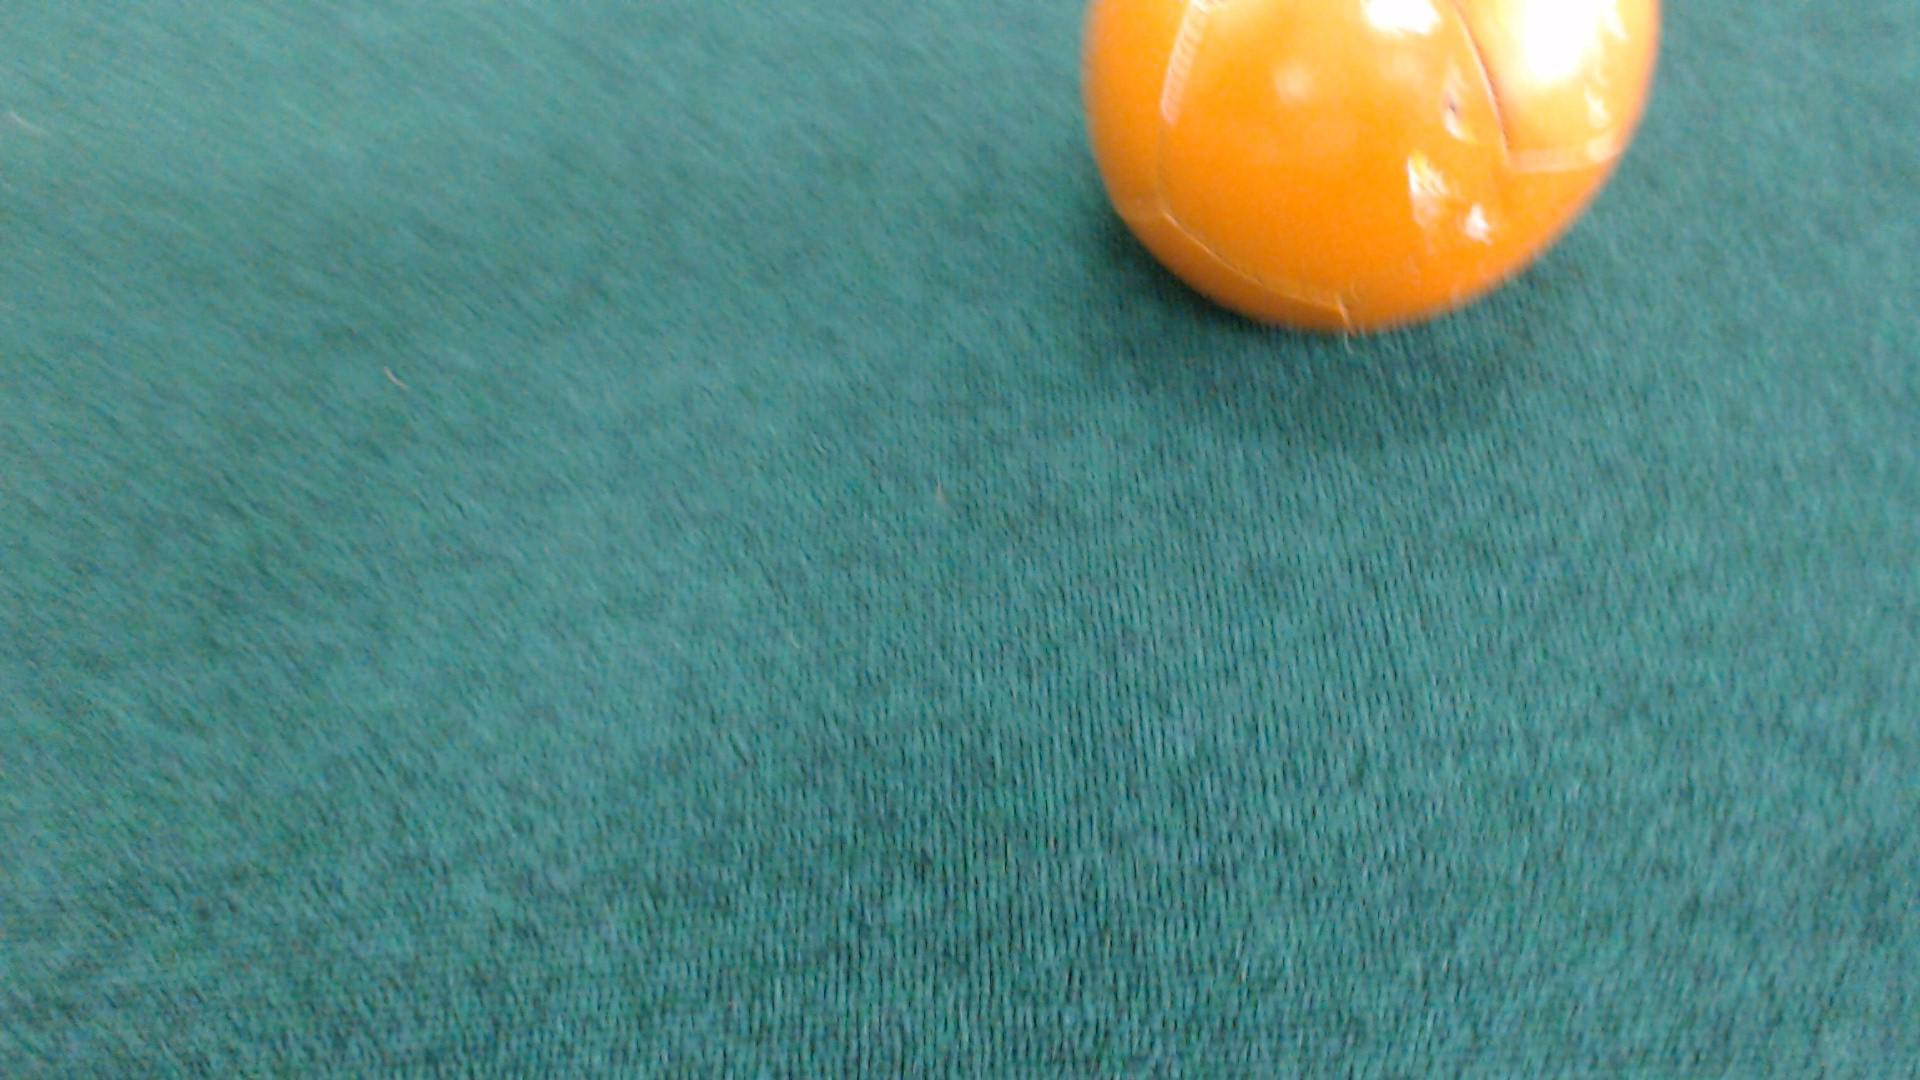bola: (1048, 0, 1676, 357)
